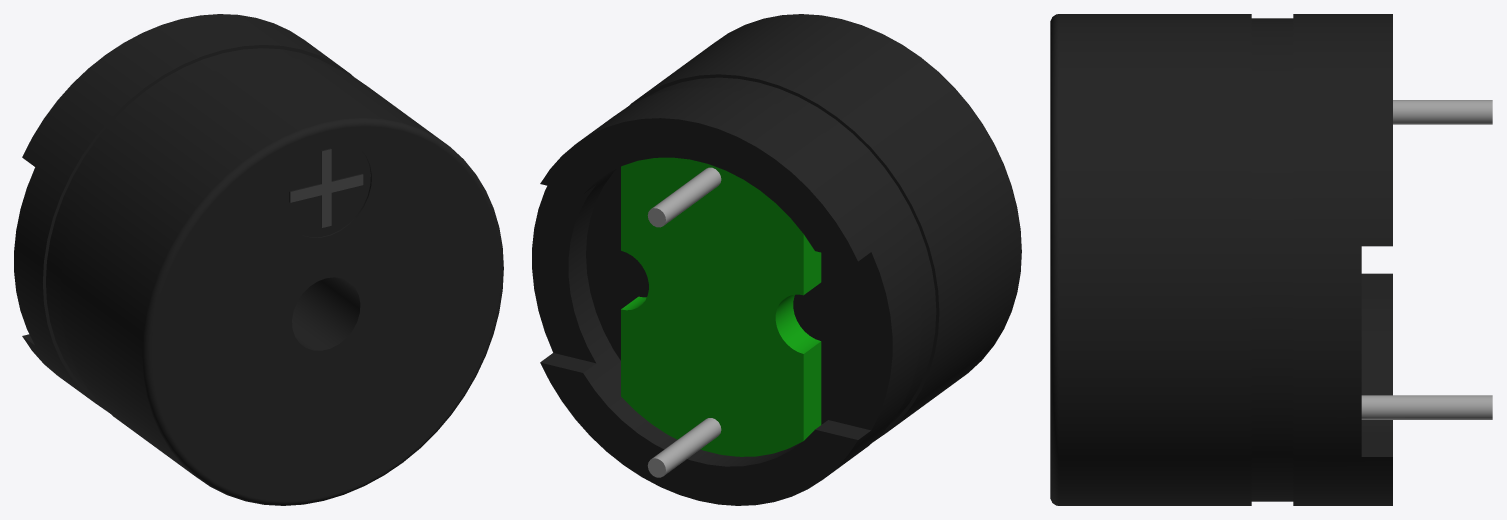
File: Large Buzzer.obj
3 renders of one model, left to right at view 1: azimuth 30°, elevation 25°; view 2: azimuth 150°, elevation 25°; view 3: azimuth 270°, elevation 25°, orthographic. The views are drawn at different scales.
Parts seen in each view (by area): view 1: Solid4; view 2: Solid4, Solid5, Solid1, Solid2; view 3: Solid4, Solid2, Solid1.
Part boxes in pixels (x1=…): Solid4: x1=14, y1=14, x2=503, y2=505; Solid4: x1=532, y1=14, x2=1021, y2=505; Solid5: x1=621, y1=157, x2=821, y2=456; Solid1: x1=647, y1=167, x2=721, y2=227; Solid2: x1=647, y1=418, x2=721, y2=477; Solid4: x1=1050, y1=14, x2=1392, y2=505; Solid2: x1=1361, y1=395, x2=1492, y2=419; Solid1: x1=1393, y1=100, x2=1492, y2=124.
Bounding box in the file's own units: 11.85 × 11.85 × 10.65.
